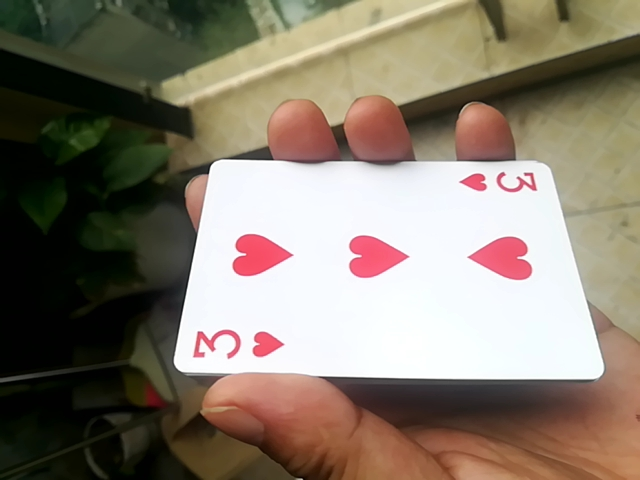hx 3: (173, 156, 601, 380)
